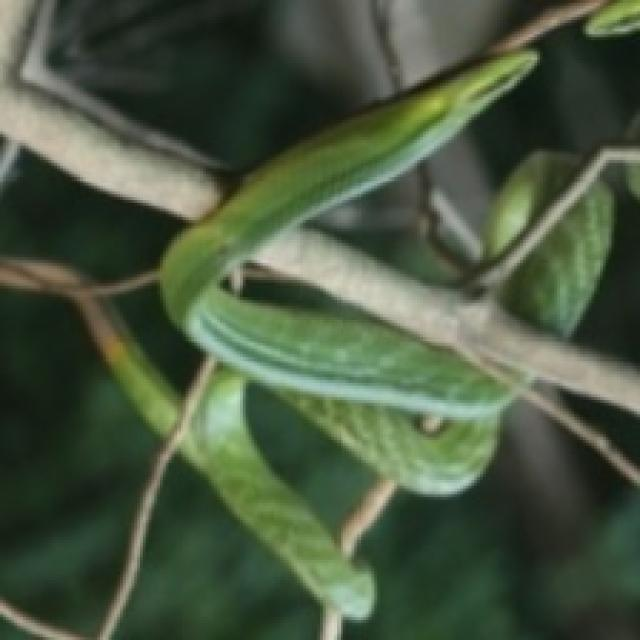red-tailed green ratsnake: (159, 49, 534, 617), (510, 184, 612, 333), (79, 299, 180, 434), (0, 258, 85, 293)
